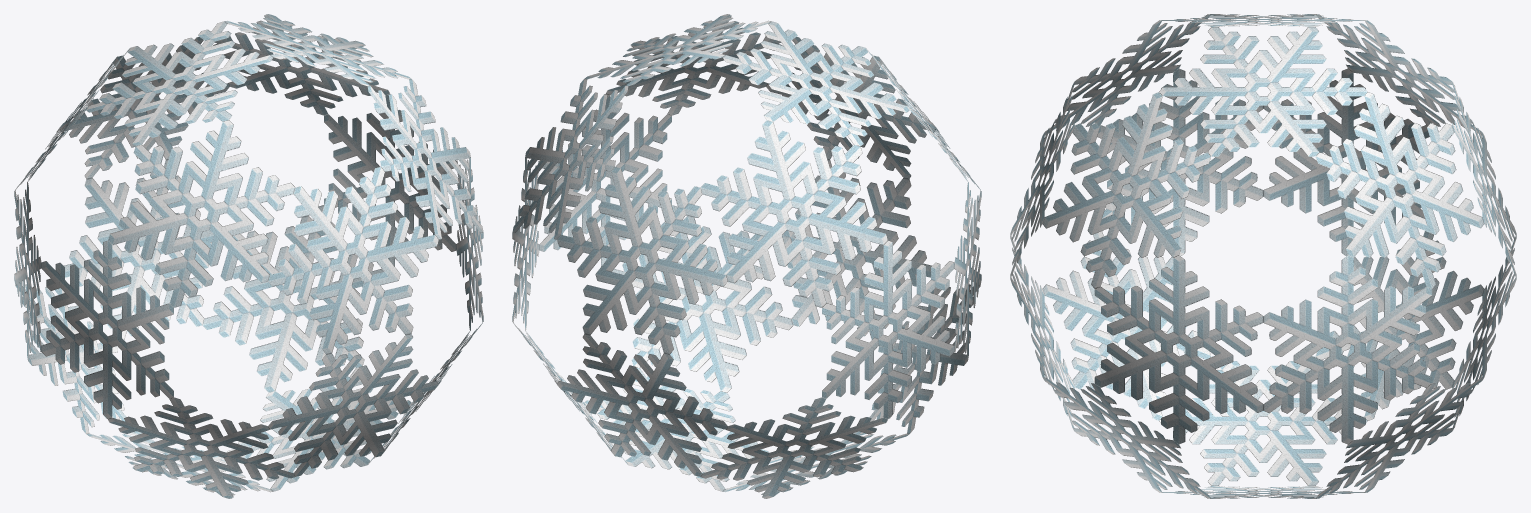
The model's file is TruncatedIcosahedron44.gltf.
3 views of the same model, side by side, from view 1: azimuth 30°, elevation 25°; view 2: azimuth 150°, elevation 25°; view 3: azimuth 270°, elevation 25° (orthographic). The views are drawn at different scales.
Parts seen in each view (by area): view 1: TruncatedIcosahedron; view 2: TruncatedIcosahedron; view 3: TruncatedIcosahedron.
Boxes of the visible parts, left/top/right/bottom form: TruncatedIcosahedron: left=14, top=14, right=483, bottom=498; TruncatedIcosahedron: left=512, top=14, right=981, bottom=498; TruncatedIcosahedron: left=1010, top=14, right=1516, bottom=498.
Size of the model in its own units: 4.85 by 4.85 by 4.85.
2 materials, 2 textured.
